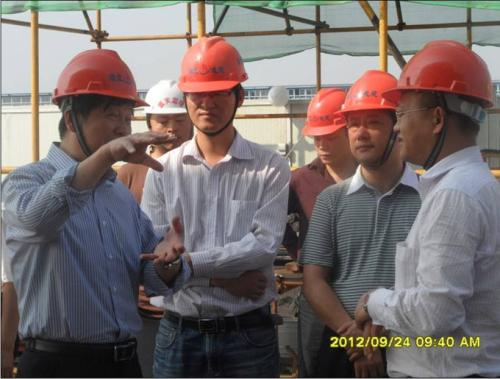hard-hat: (382, 40, 495, 109), (51, 48, 150, 108), (177, 34, 249, 92), (335, 68, 401, 115), (302, 87, 347, 137)
person: (1, 47, 187, 377), (139, 35, 292, 378), (352, 39, 500, 378), (298, 69, 423, 378), (281, 86, 359, 377)
